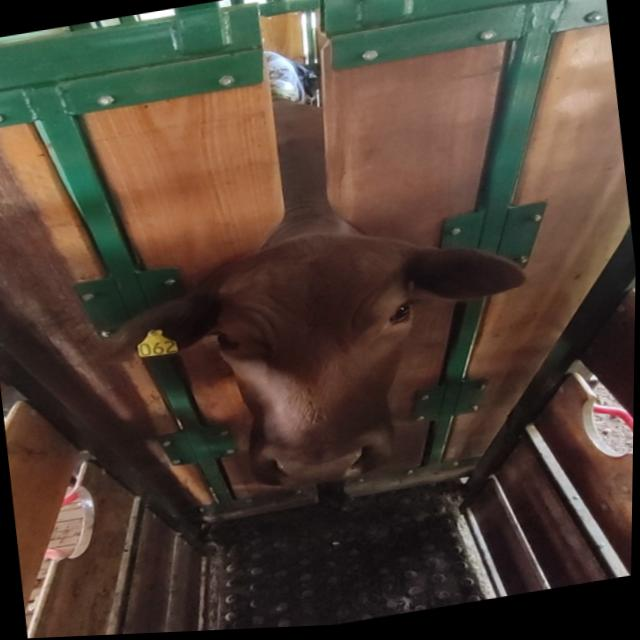cowFace: (200, 223, 436, 503)
